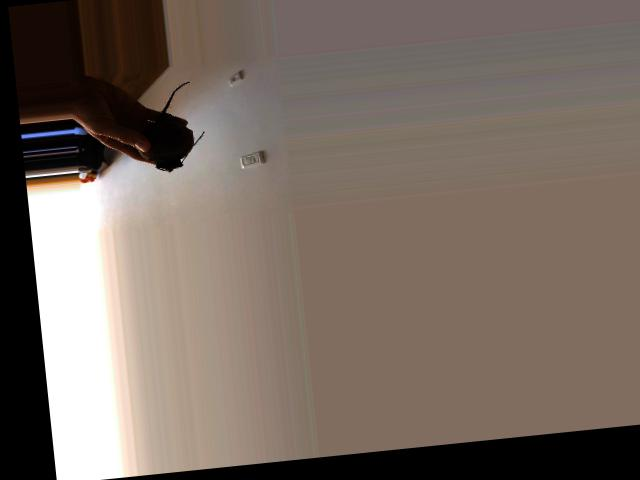beet: (131, 80, 209, 175)
